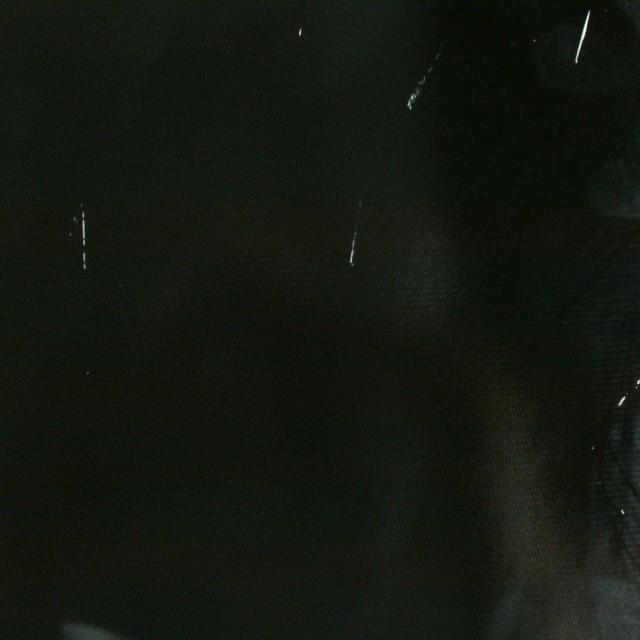scratch: (404, 40, 446, 123), (341, 182, 370, 278), (70, 193, 94, 280), (570, 0, 596, 77), (613, 364, 640, 415)
very small scratch: (292, 22, 308, 43)
